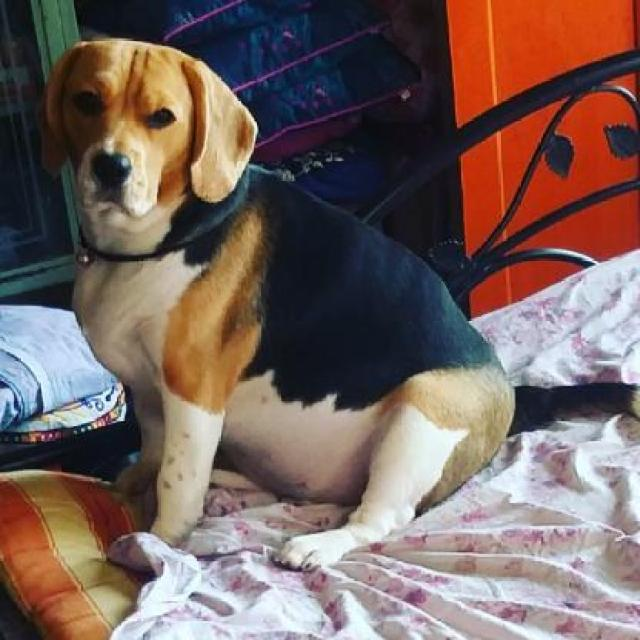Dog: (43, 34, 639, 583)
